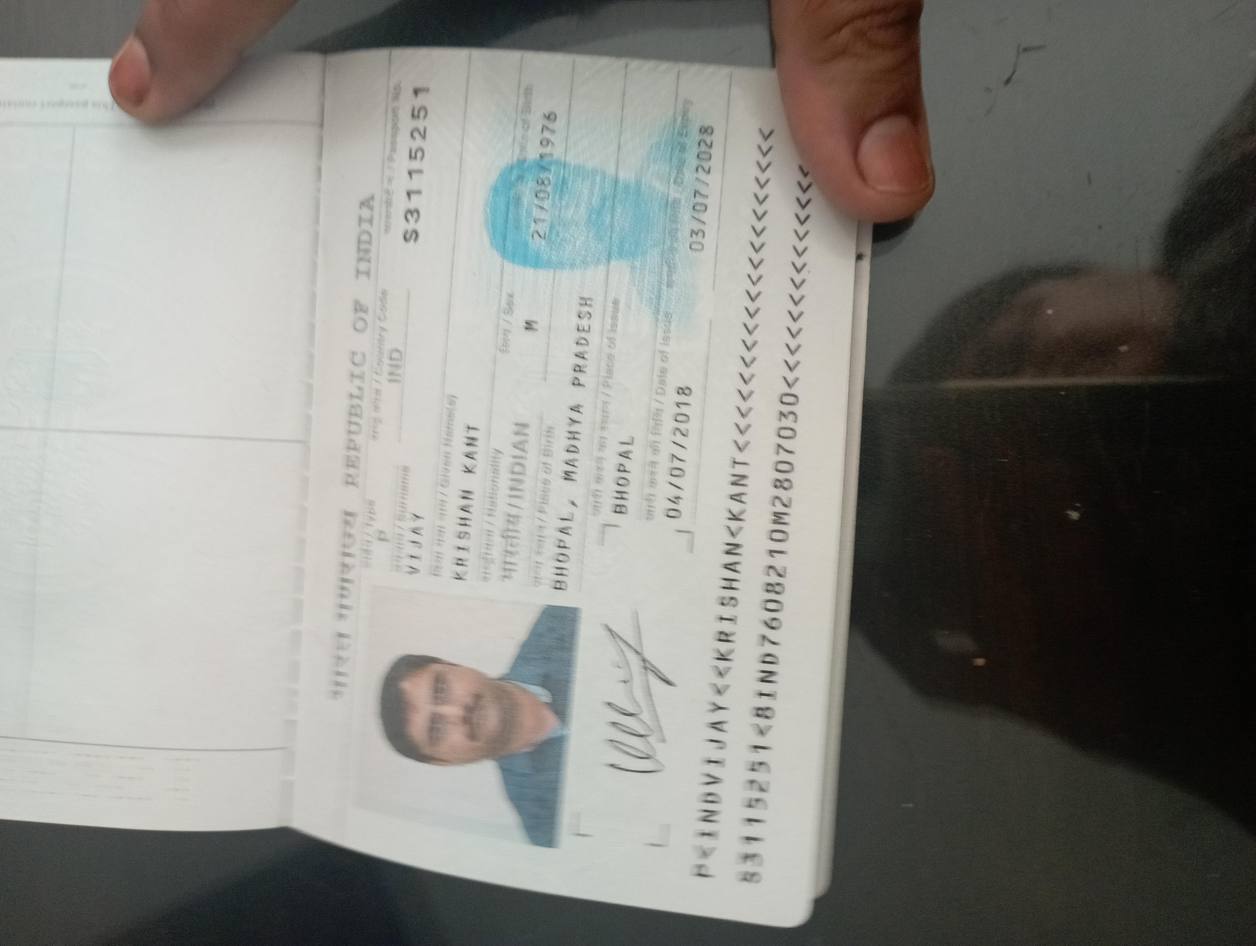DOB: (923, 393, 1126, 429)
Surname: (481, 302, 612, 328)
country_code: (737, 288, 802, 309)
date_of_expiry: (908, 515, 1102, 546)
date_of_issue: (552, 496, 747, 530)
details: (58, 515, 1110, 624)
name: (480, 338, 713, 366)
nationality: (480, 373, 709, 405)
passport_no: (924, 298, 1152, 334)
photo: (124, 264, 474, 437)
place_of_birth: (465, 413, 875, 455)
place_of_issue: (564, 456, 685, 479)
sex: (803, 389, 851, 413)
sign: (209, 445, 448, 503)
type: (529, 281, 565, 298)
